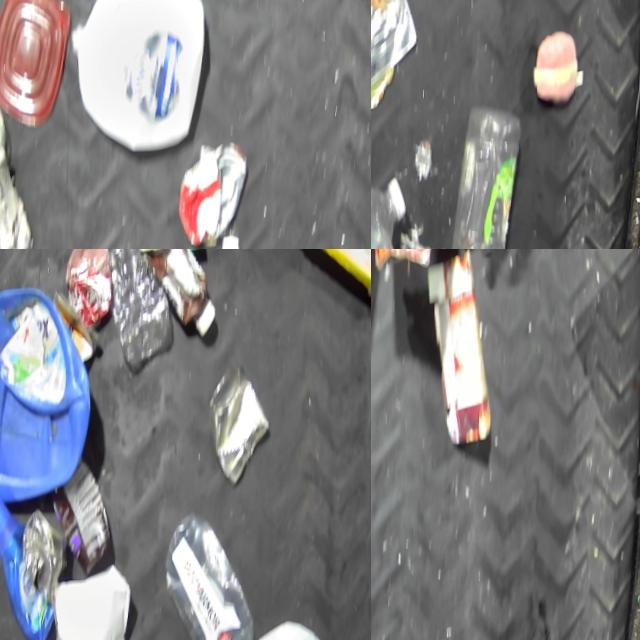can: (206, 365, 274, 489), (178, 141, 252, 249), (63, 249, 115, 331), (52, 288, 103, 366)
milk_jug: (70, 0, 210, 156)
non_white_jug: (0, 283, 97, 505), (281, 249, 371, 314)
plastic_bottle: (451, 112, 526, 249), (371, 173, 411, 249)
